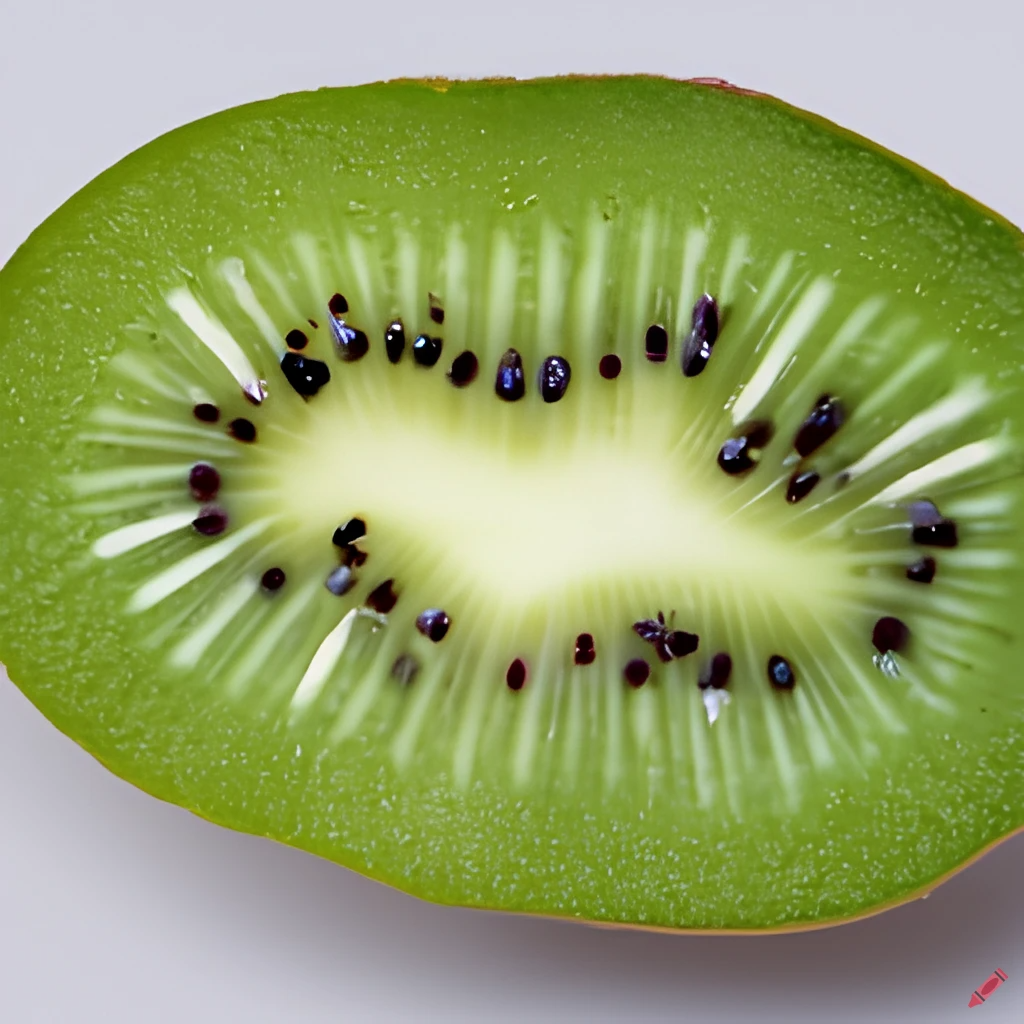Kiwi: (0, 24, 1024, 934)
